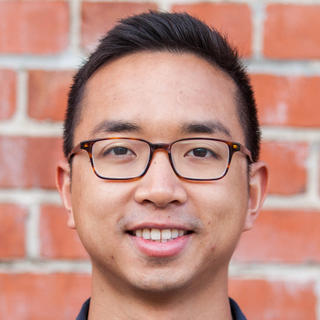eye: (96, 140, 140, 165), (179, 141, 221, 166)
